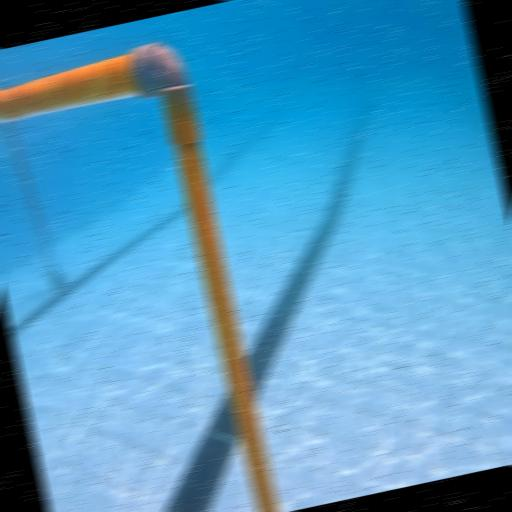gate: (0, 35, 283, 512)
